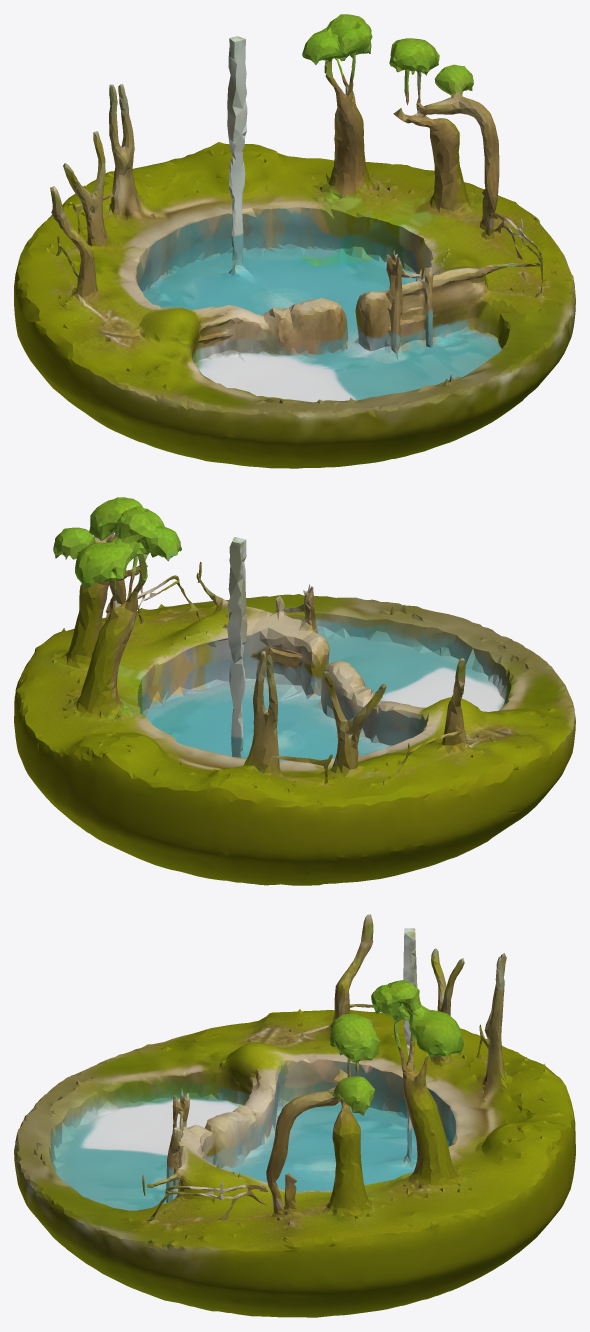
The picture shows the model from 3 angles, top to bottom: view 1: azimuth 30°, elevation 25°; view 2: azimuth 150°, elevation 25°; view 3: azimuth 270°, elevation 25°; orthographic projection.
Parts seen in each view (by area): view 1: 042; view 2: 042; view 3: 042.
Boxes of the visible parts, box(x1,y1,x2,y2) form: 042: box(14, 14, 575, 468); 042: box(14, 497, 575, 885); 042: box(14, 914, 575, 1317).
Size of the model in its own units: 1.9 by 1.09 by 1.89.
1 material, 1 textured.
